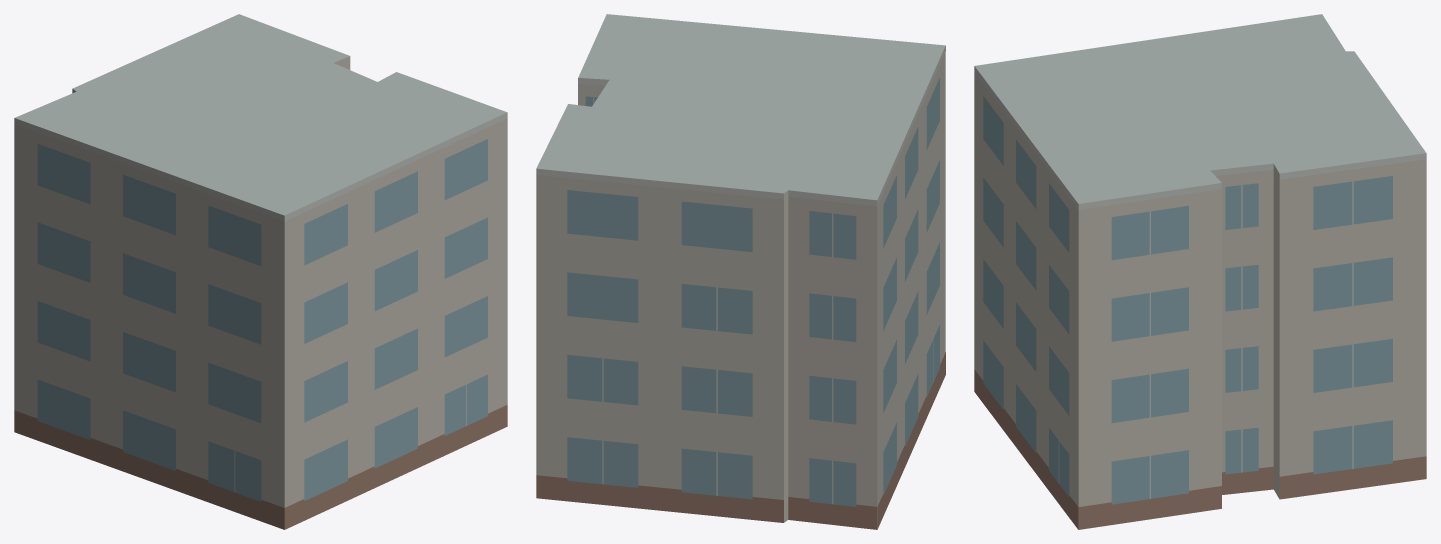
Rendered from survey-upis-32720912.glb.
3 views of the same model, side by side, from view 1: azimuth 30°, elevation 25°; view 2: azimuth 150°, elevation 25°; view 3: azimuth 270°, elevation 25° (orthographic). The views are drawn at different scales.
Visible parts, largest first — view 1: survey-upis-32720912.tmp; view 2: survey-upis-32720912.tmp; view 3: survey-upis-32720912.tmp.
Boxes of the visible parts, x1=… form: survey-upis-32720912.tmp: x1=14, y1=14, x2=507, y2=529; survey-upis-32720912.tmp: x1=536, y1=14, x2=945, y2=529; survey-upis-32720912.tmp: x1=974, y1=14, x2=1426, y2=529.
Size of the model in its own units: 16.27 by 13 by 16.36.
